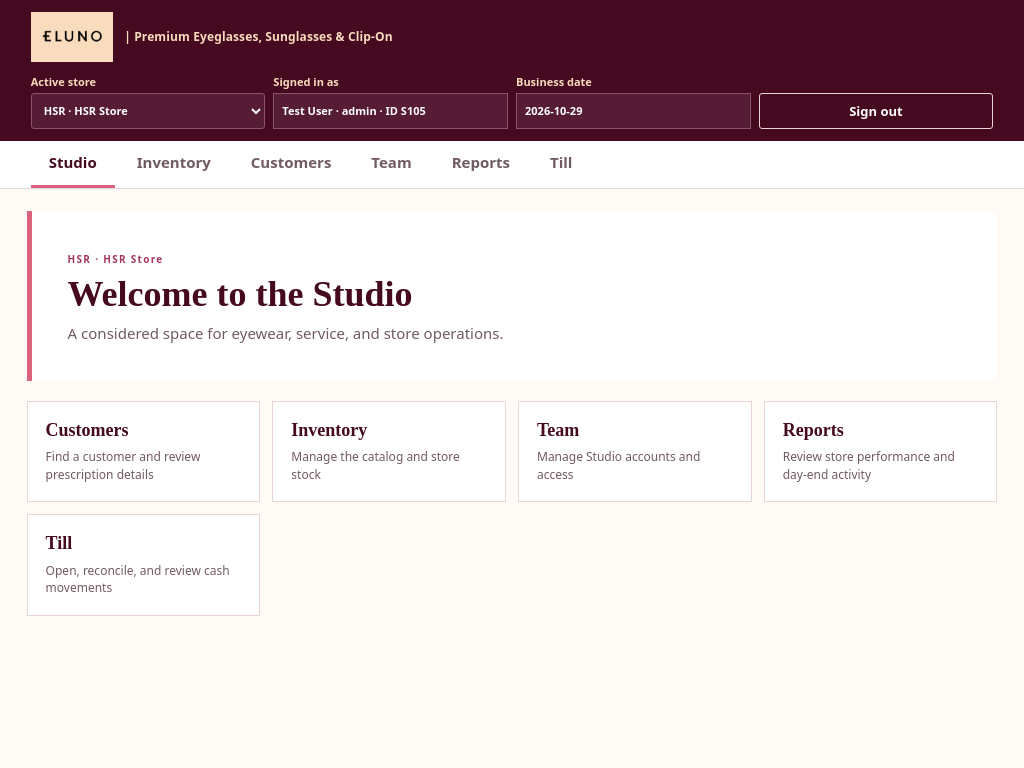
Test: browser POS workflows › returns to the login screen when an authenticated request reports an invalid session
Click the button "Team".
click(391, 164)  # box [353,141,430,188]
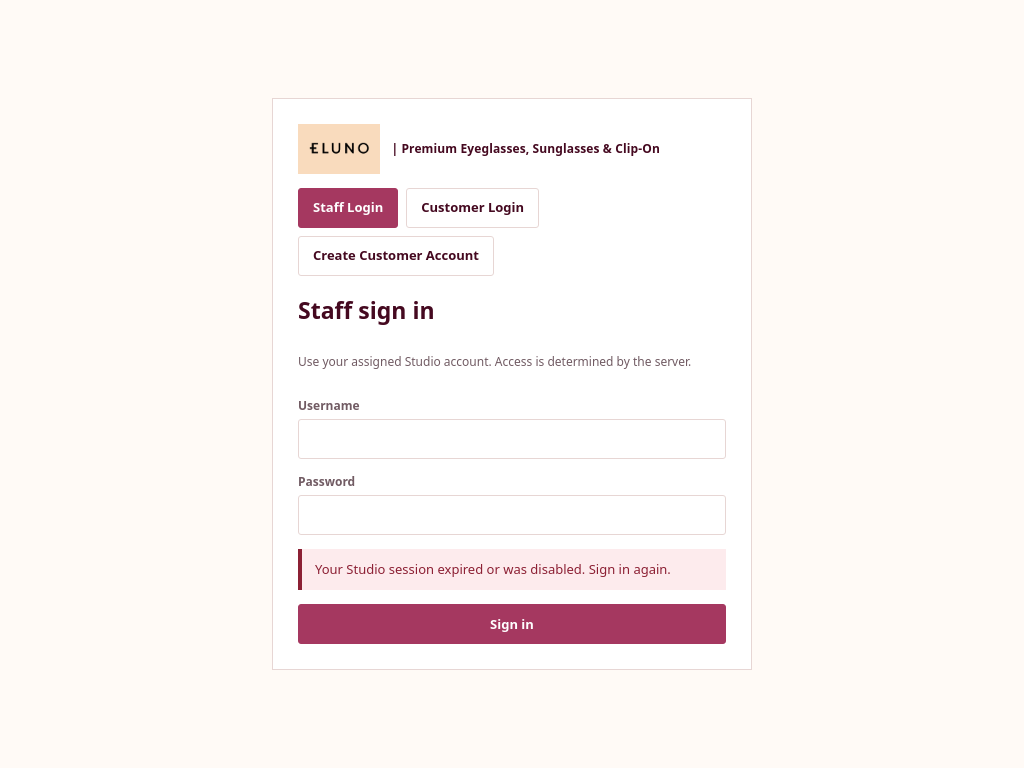
Result: the heading "Staff sign in" is shown at [298,294,435,326]
Result: the message shows "session expired or was disabled" at [315,560,671,578]
